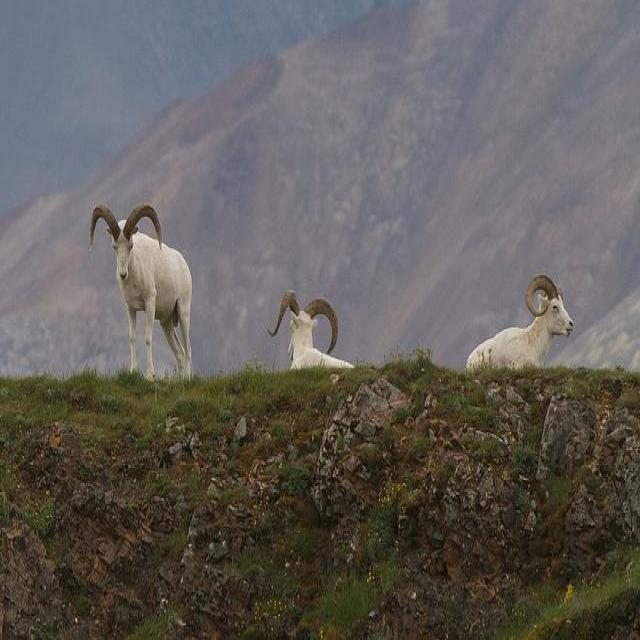Sheep: (89, 202, 194, 380), (465, 275, 574, 369), (269, 290, 357, 371)
